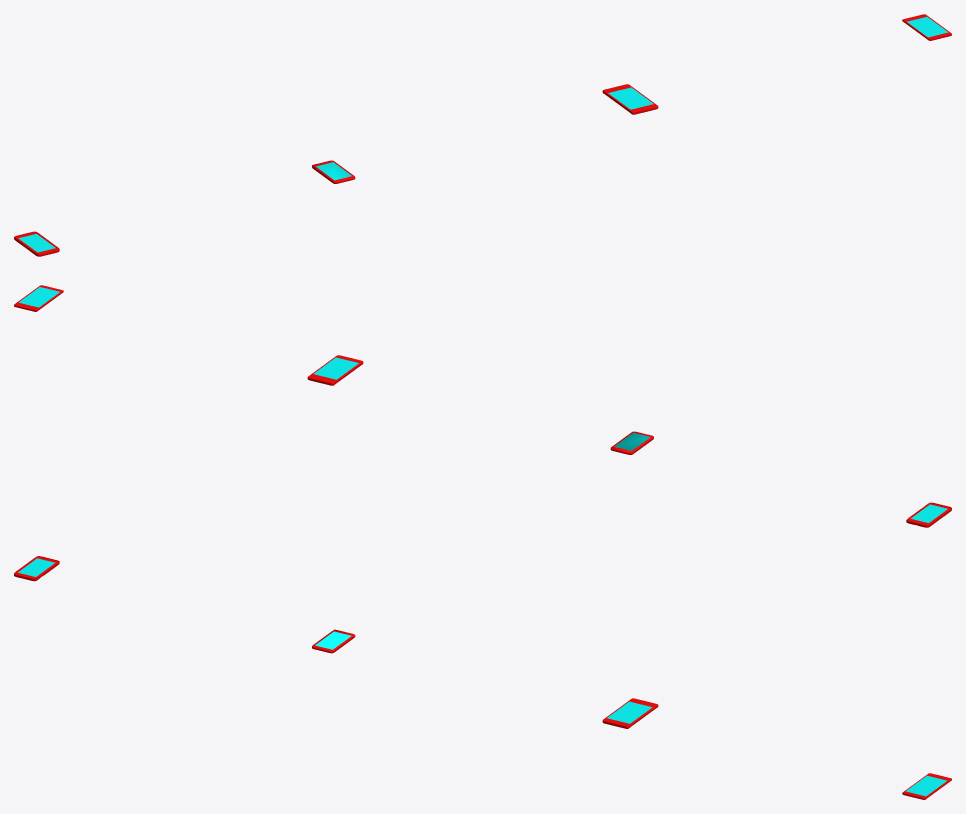
The model's file is cellphones_grp.fbx.
The picture shows the model from 3 angles, top to bottom: view 1: azimuth 30°, elevation 25°; view 2: azimuth 150°, elevation 25°; view 3: azimuth 330°, elevation 25°; orthographic projection.
Visible parts, largest first — view 1: cellphone_2, cellphone_1, cellphone_4, cellphone_3; view 2: cellphone_2, cellphone_1, cellphone_4, cellphone_3; view 3: cellphone_2, cellphone_1, cellphone_4, cellphone_3.
Part boxes in pixels (x1,y1,x2,y2): cellphone_2: (602, 84, 658, 114); cellphone_1: (902, 14, 951, 40); cellphone_4: (14, 231, 59, 256); cellphone_3: (312, 160, 355, 183); cellphone_2: (307, 355, 363, 385); cellphone_1: (14, 285, 63, 311); cellphone_4: (906, 502, 951, 527); cellphone_3: (610, 431, 653, 454); cellphone_2: (602, 698, 658, 728); cellphone_1: (902, 773, 951, 799); cellphone_4: (14, 556, 59, 581); cellphone_3: (312, 629, 355, 653).
Bounding box in the file's own units: 308 × 0.9761 × 18.
